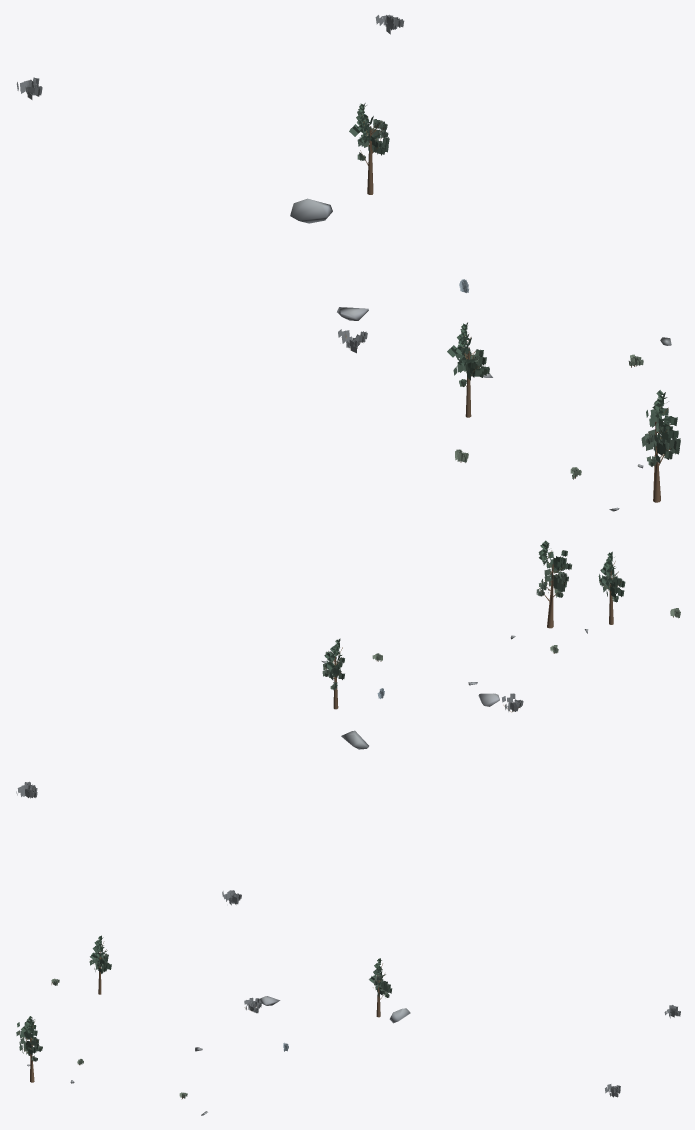
Rendered from frost_land_scatter_c15_13.glb.
3 renders of one model, top to bottom at view 1: azimuth 30°, elevation 25°; view 2: azimuth 150°, elevation 25°; view 3: azimuth 270°, elevation 25°, orthographic. The views are drawn at different scales.
Visible parts, largest first — view 1: frost_land_scatter_c15_13; view 2: frost_land_scatter_c15_13; view 3: frost_land_scatter_c15_13.
Part boxes in pixels (x1,y1,x2,y2): frost_land_scatter_c15_13: [16, 14, 680, 511]; frost_land_scatter_c15_13: [16, 540, 680, 905]; frost_land_scatter_c15_13: [16, 935, 680, 1115].
Size of the model in its own units: 45.57 by 21.08 by 106.
